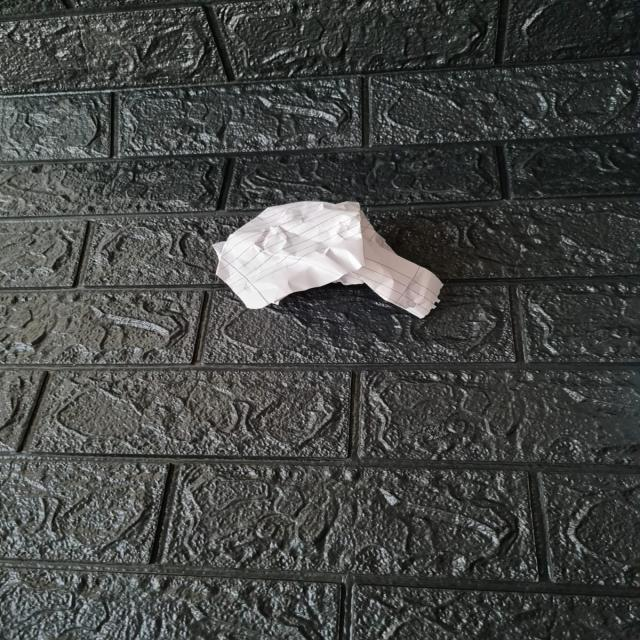Paper: (221, 203, 441, 321)
